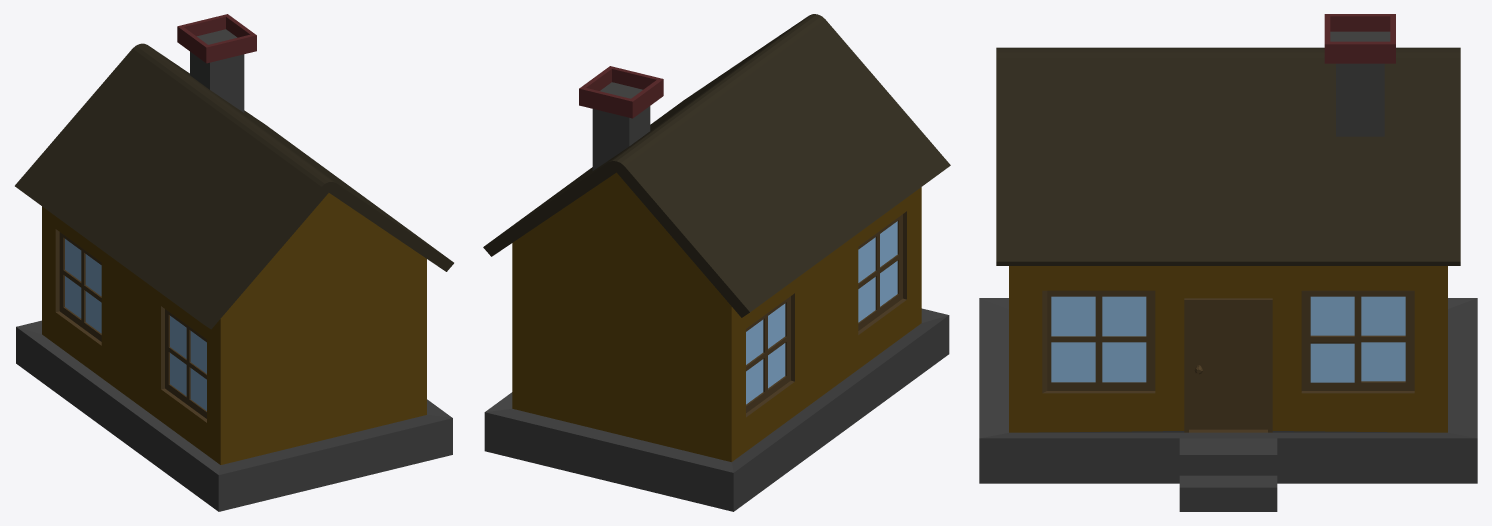
Rendered from house1.fbx.
3 renders of one model, left to right at view 1: azimuth 30°, elevation 25°; view 2: azimuth 150°, elevation 25°; view 3: azimuth 270°, elevation 25°, orthographic. The views are drawn at different scales.
Parts seen in each view (by area): view 1: House; view 2: House; view 3: House.
Boxes of the visible parts, x1,y1,x2,y2 form: House: [15, 14, 453, 511]; House: [483, 14, 950, 511]; House: [979, 14, 1477, 511].
Bounding box in the file's own units: 562 × 612 × 681.
